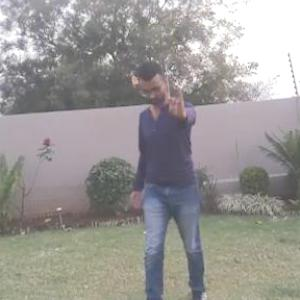takeoff-hand: (163, 82, 188, 121)
